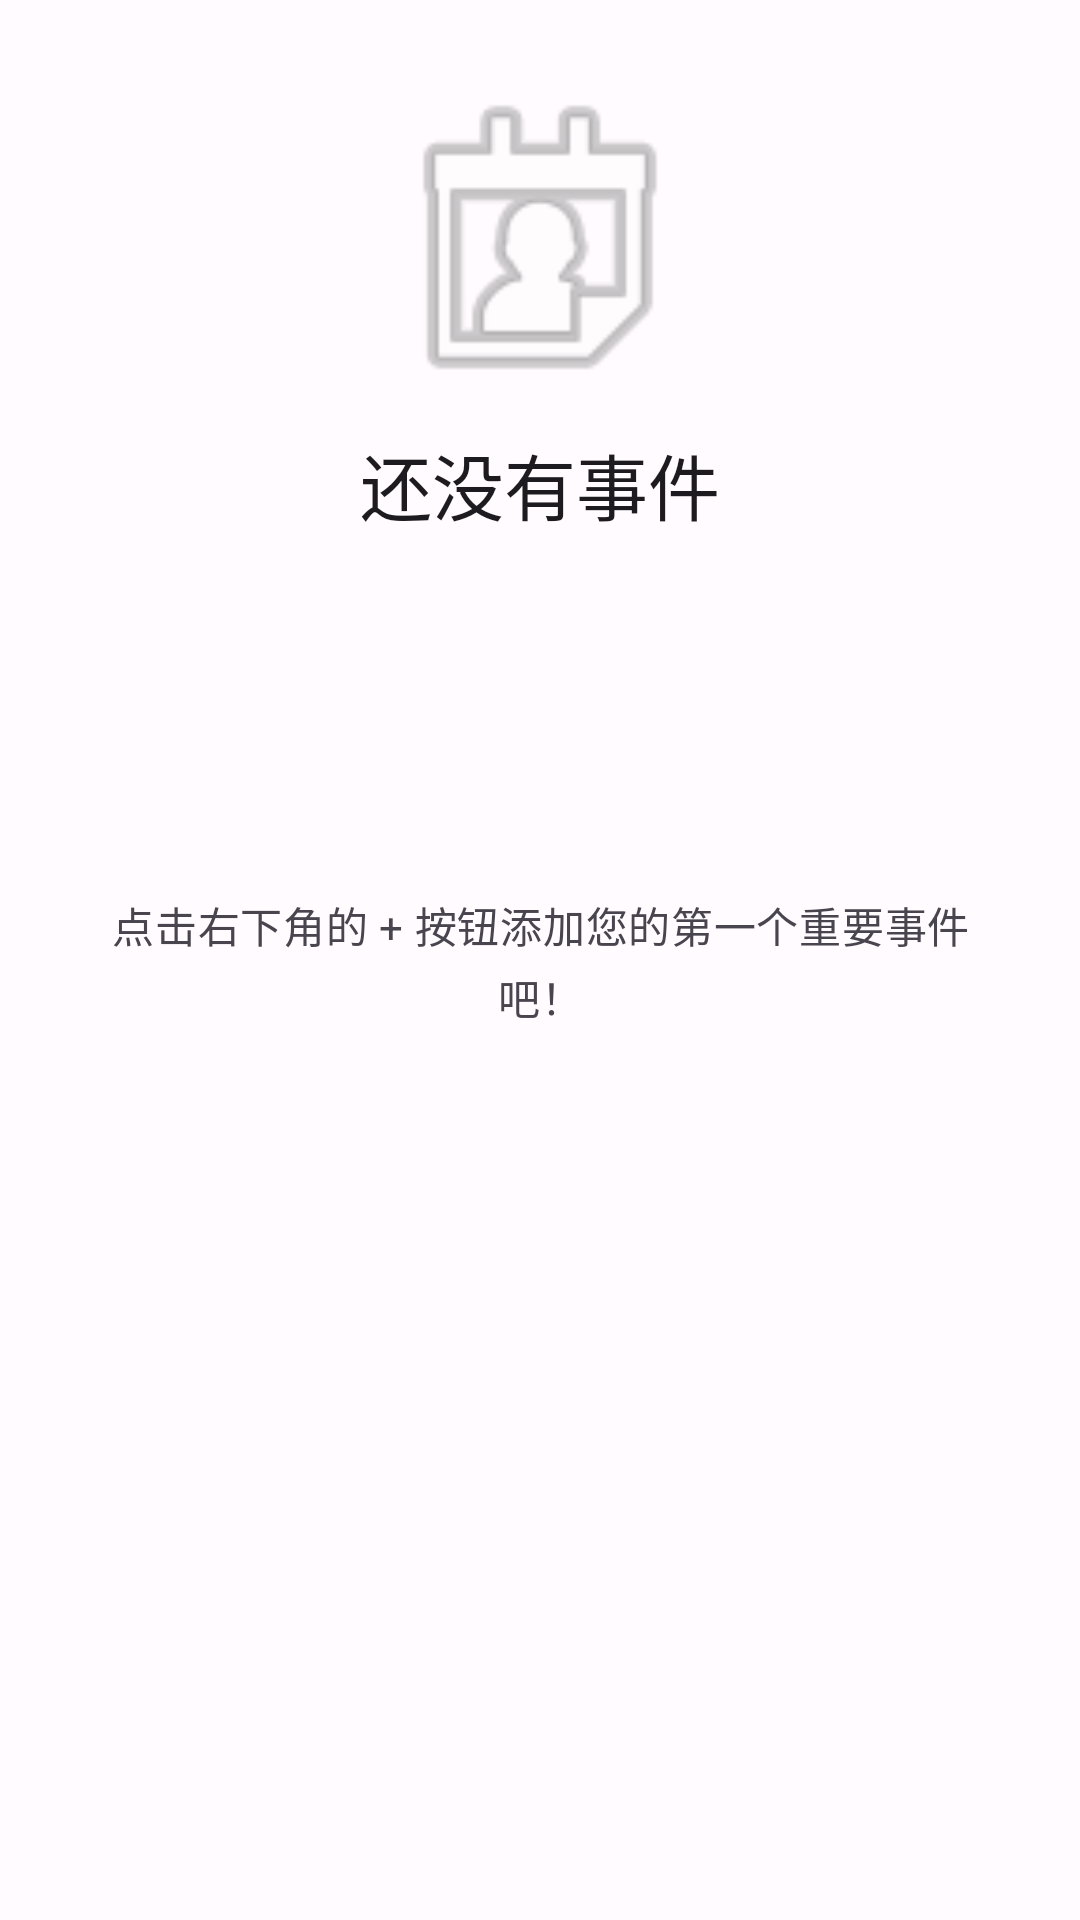

Screen size 1080×1920. Icon name, then its box in pixels as (x1, y1, x2, y2):
calendar: (424, 106, 656, 368)
